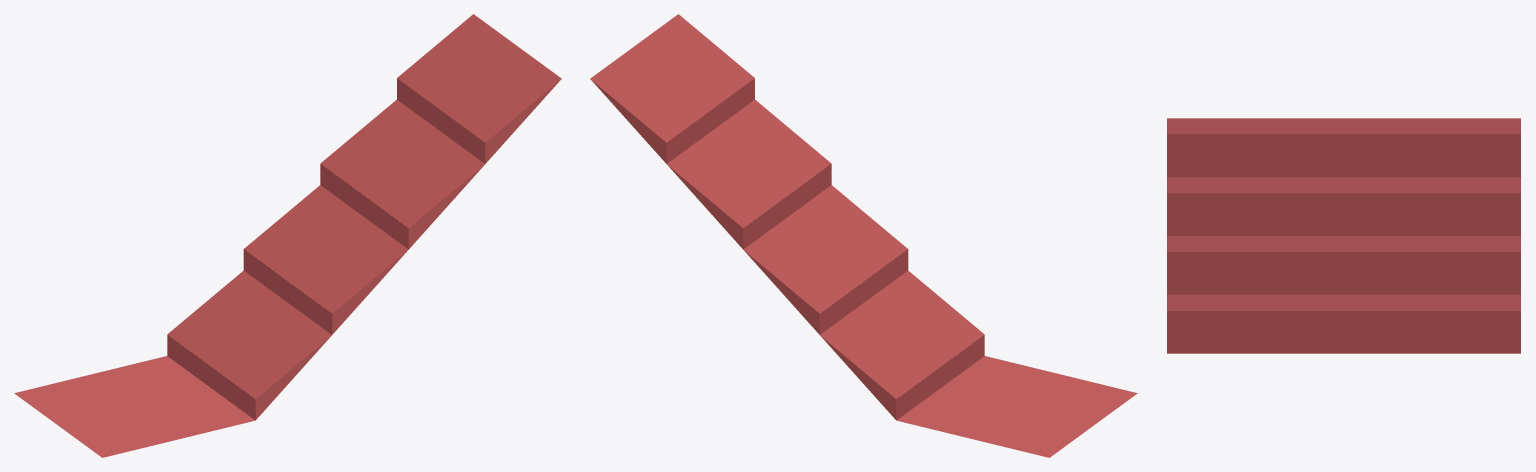
Rendered from km1_dorifu3.glb.
The picture shows the model from 3 angles, left to right: view 1: azimuth 30°, elevation 25°; view 2: azimuth 150°, elevation 25°; view 3: azimuth 270°, elevation 25°; orthographic projection. The views are drawn at different scales.
Parts seen in each view (by area): view 1: km1_dorifu3_col; view 2: km1_dorifu3_col; view 3: km1_dorifu3_col.
Part boxes in pixels (x1,y1,x2,y2): km1_dorifu3_col: (14, 14, 561, 457); km1_dorifu3_col: (590, 14, 1137, 457); km1_dorifu3_col: (1167, 118, 1521, 353).
Bounding box in the file's own units: 1.8 × 1 × 0.603.
